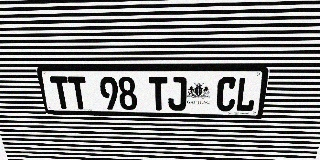8: (117, 77, 137, 110)
9: (99, 77, 120, 110)
C: (216, 77, 238, 111)
J: (168, 77, 187, 111)
L: (235, 77, 258, 112)
T: (49, 76, 72, 109), (67, 76, 89, 109), (149, 77, 167, 110)
